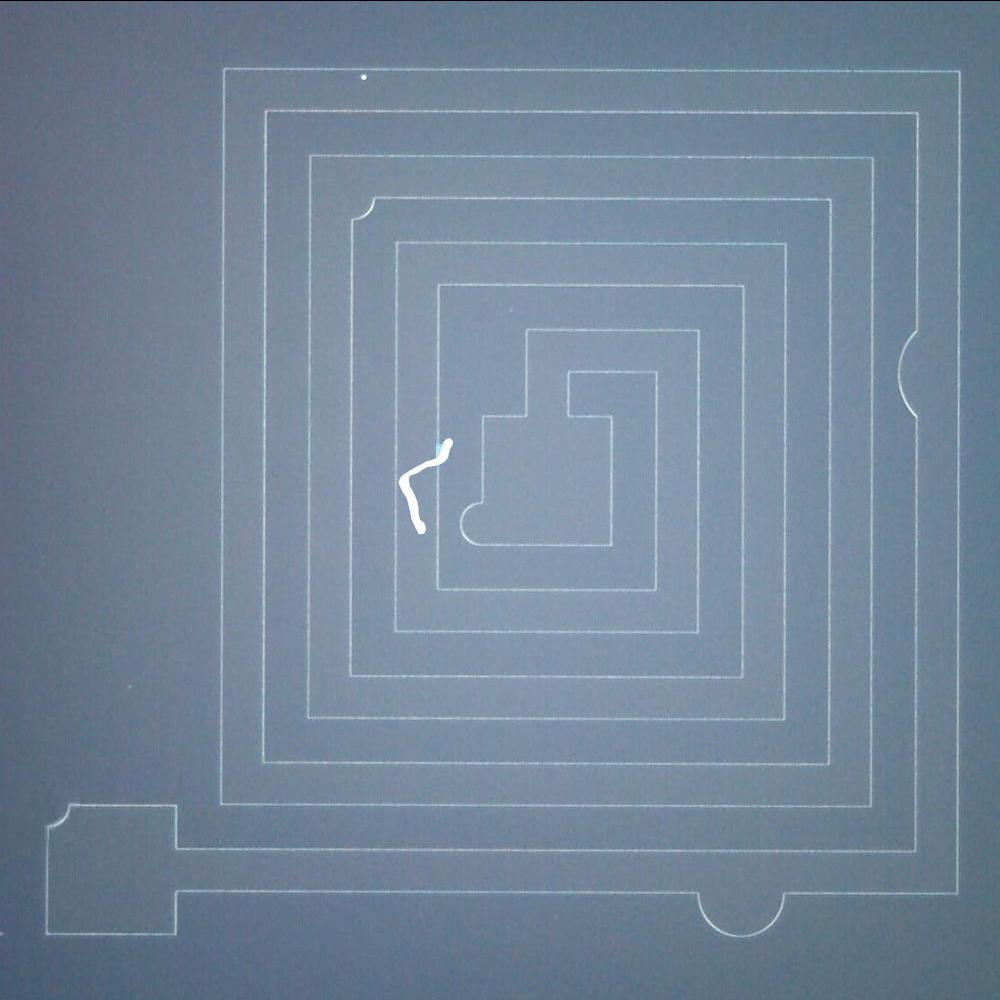curve circuit: (677, 877, 804, 945), (886, 314, 933, 435), (453, 493, 494, 556), (338, 190, 388, 235), (38, 794, 81, 841)
dot: (350, 72, 376, 90)
line: (391, 432, 458, 536)
